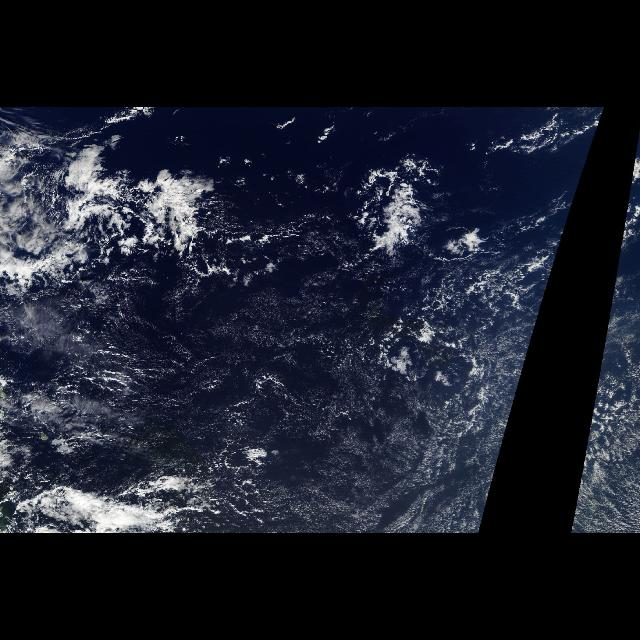Fish: (1, 122, 520, 314)
Gravel: (358, 191, 556, 385)
Sugar: (26, 290, 546, 528), (568, 291, 638, 529)
